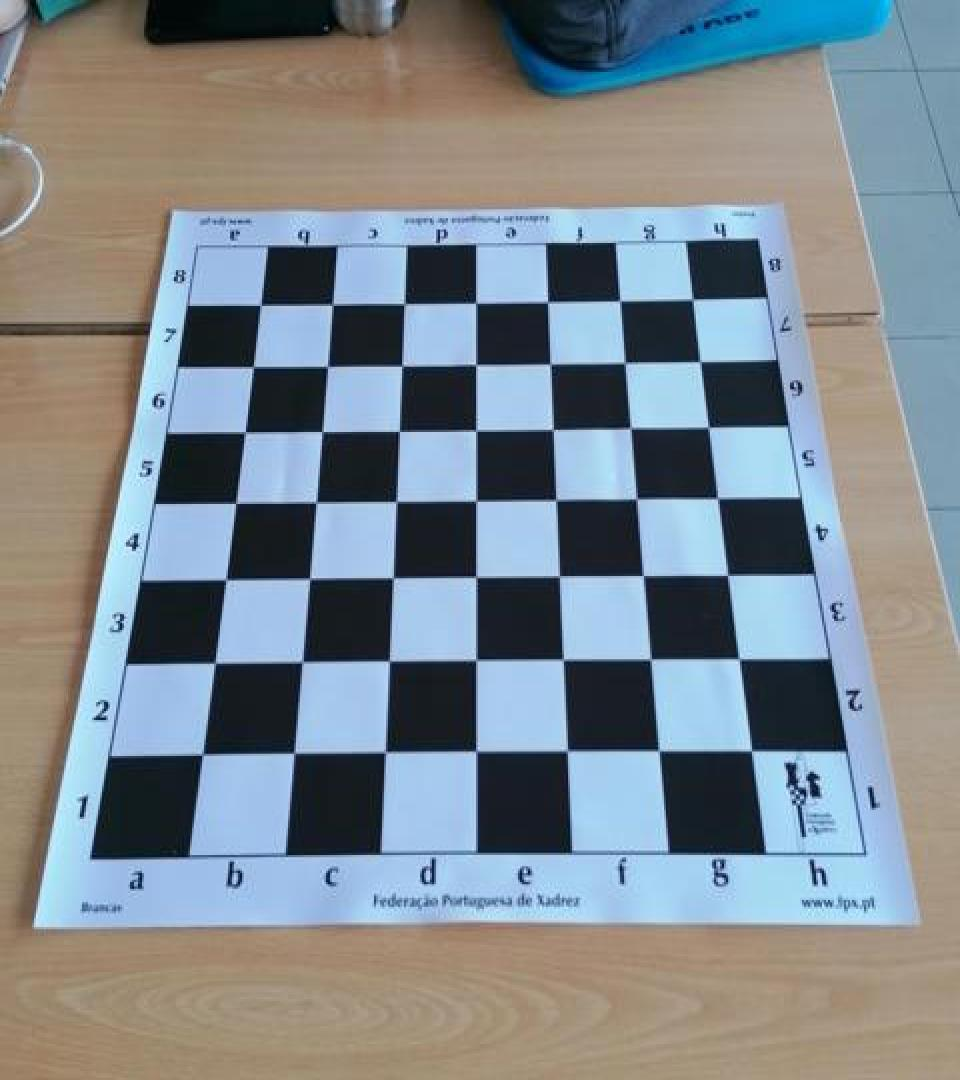xcorner: (282, 644, 314, 681), (369, 644, 401, 681), (457, 644, 489, 681), (642, 734, 674, 771), (735, 734, 767, 771), (243, 288, 275, 324), (235, 349, 267, 385), (226, 414, 258, 450), (216, 485, 248, 521), (206, 562, 238, 598), (195, 646, 227, 682), (182, 736, 214, 772), (315, 287, 347, 323), (309, 348, 341, 384), (303, 414, 335, 450), (296, 485, 328, 521), (289, 562, 321, 598), (273, 736, 305, 772), (387, 286, 419, 322), (384, 346, 416, 382), (380, 413, 412, 449), (377, 484, 409, 520), (373, 562, 405, 598), (365, 736, 397, 772), (459, 284, 491, 320), (459, 346, 491, 382), (458, 412, 490, 448), (458, 482, 490, 518), (458, 560, 490, 596), (457, 736, 489, 772), (531, 284, 563, 320), (534, 346, 566, 382), (536, 410, 568, 446), (539, 482, 571, 518), (542, 560, 574, 596), (546, 644, 578, 680), (549, 736, 581, 772), (604, 282, 636, 318), (609, 344, 641, 380), (615, 410, 647, 446), (621, 482, 653, 518), (627, 559, 659, 595), (634, 644, 666, 680), (677, 281, 709, 317), (685, 343, 717, 379), (694, 410, 726, 446), (703, 482, 735, 518), (713, 558, 745, 594), (723, 642, 755, 678)
